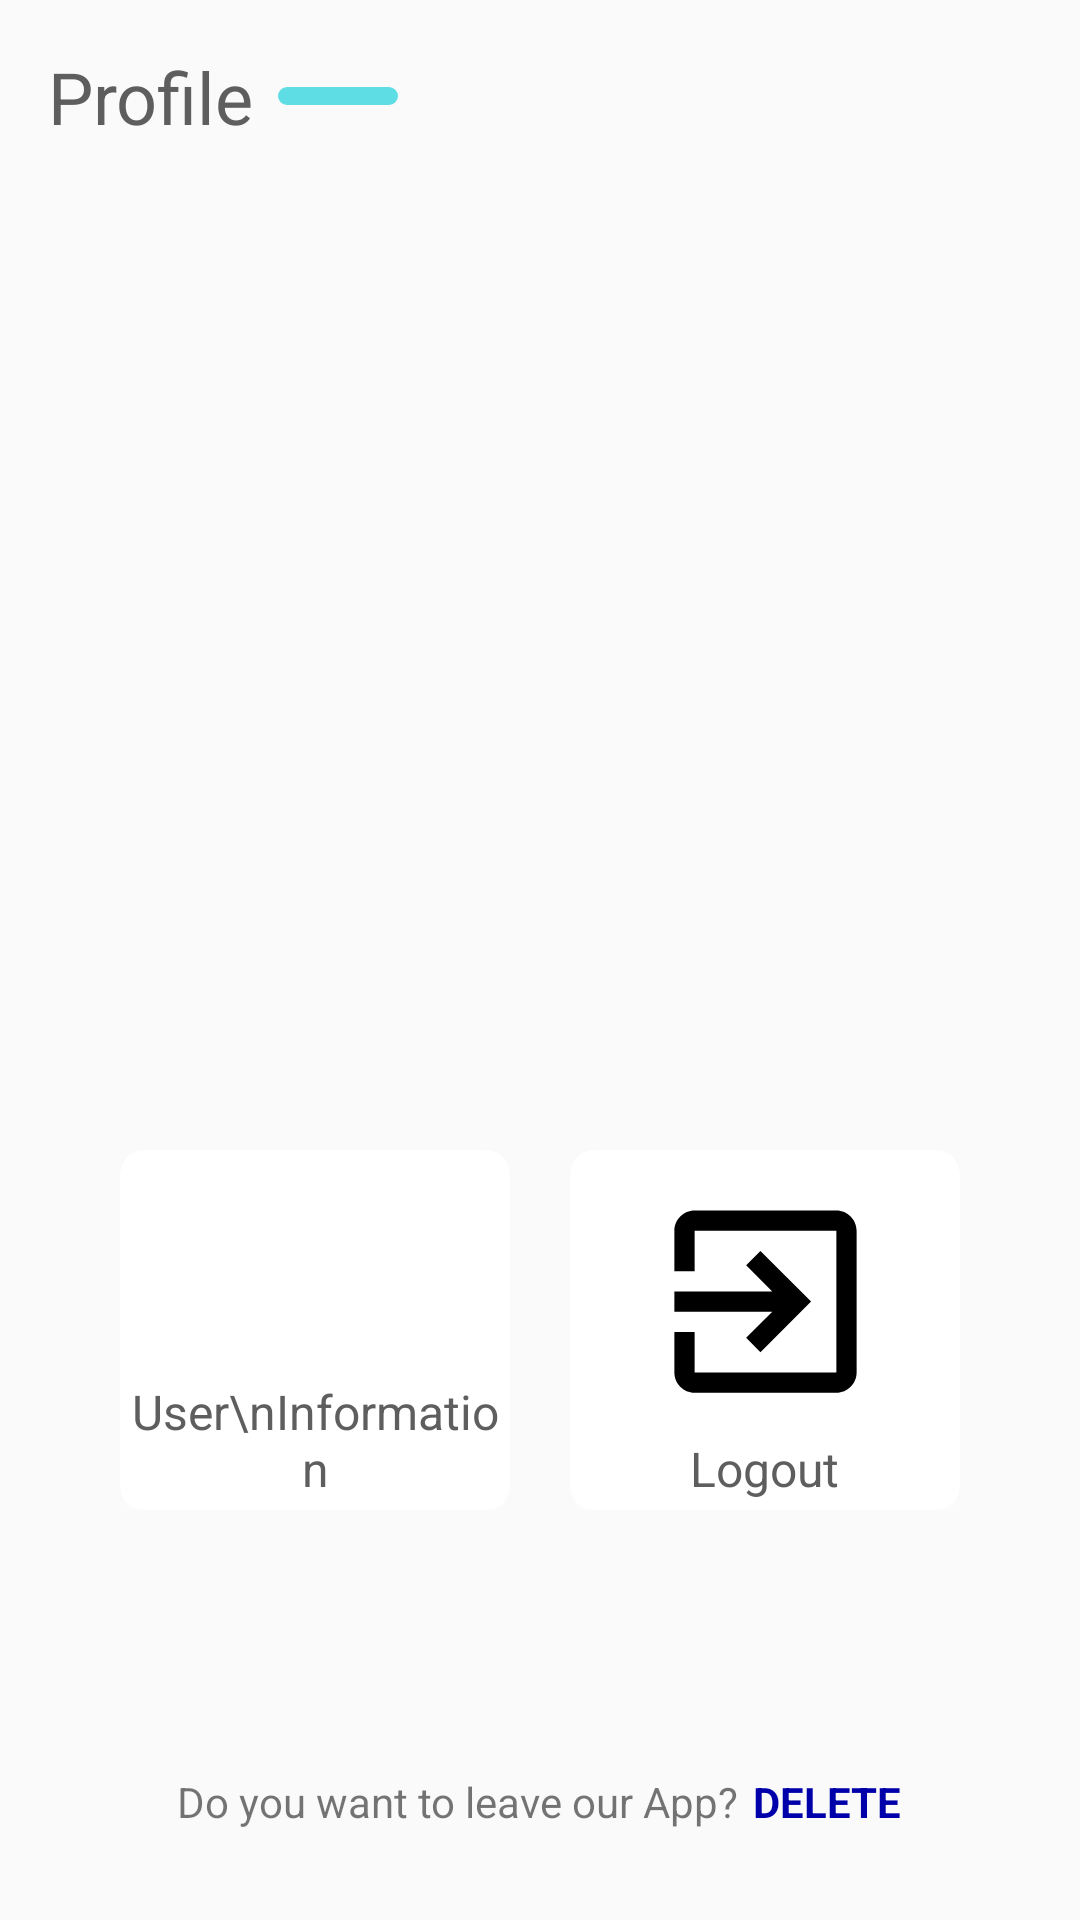

Locate icon controls on the screen. Image size 1080 x 1920, boxes as (x1, y1, x2, y2).
exit: (674, 1210, 857, 1393)
